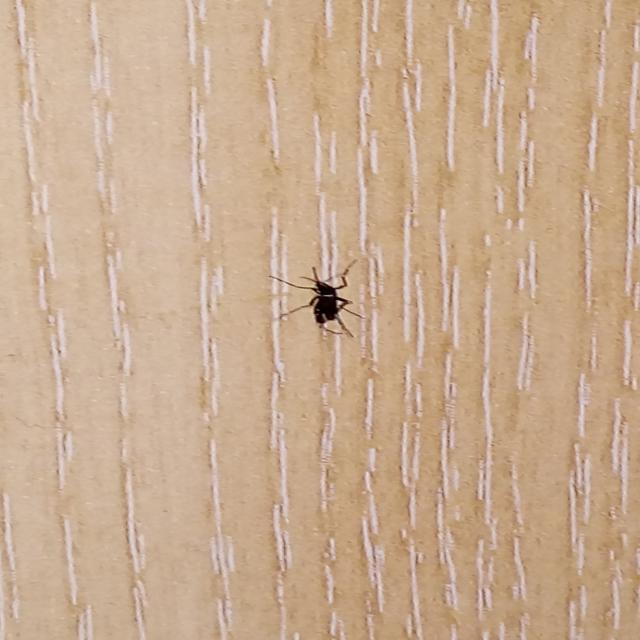albopictus: (262, 254, 366, 338)
